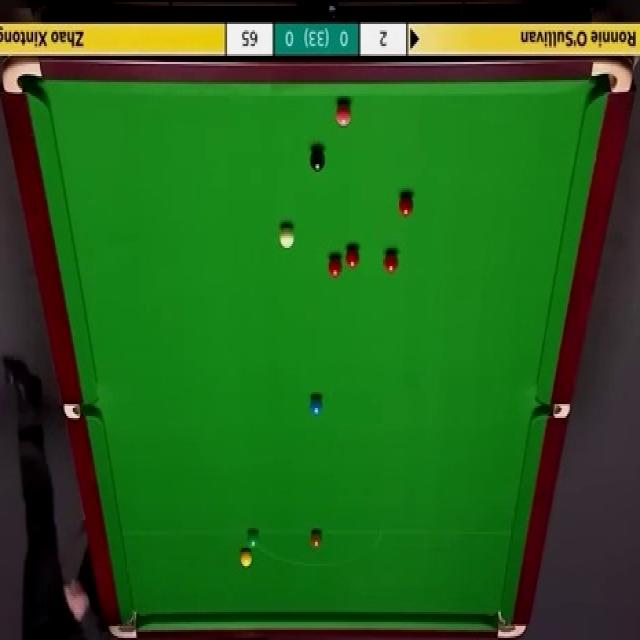pocket: (589, 57, 635, 95), (3, 60, 46, 98), (108, 608, 140, 640), (493, 611, 528, 640), (64, 402, 100, 422), (536, 403, 572, 420)
